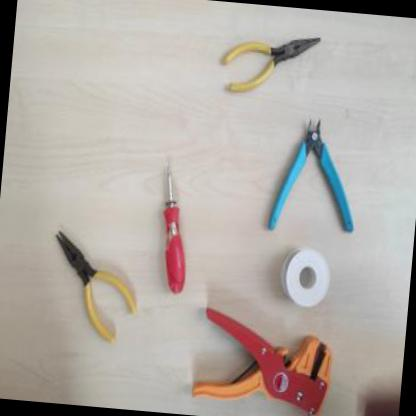Screwdriver: (149, 161, 195, 299)
